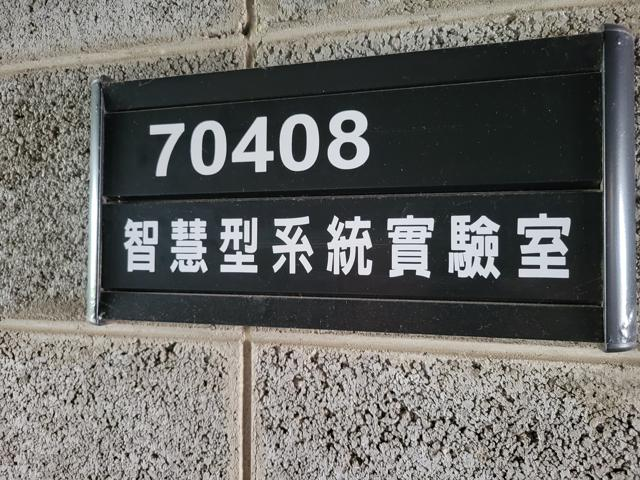doorplate: (75, 19, 636, 358)
